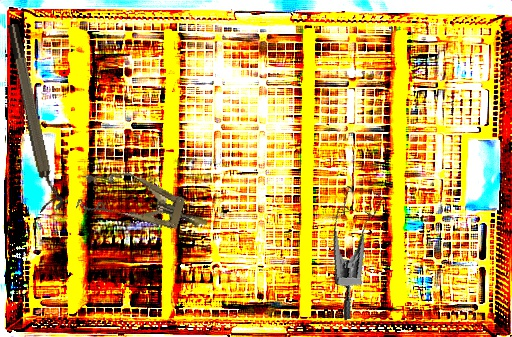Fixation Ring: (4, 21, 65, 213)
Speculum: (316, 179, 406, 321), (75, 161, 215, 247)
